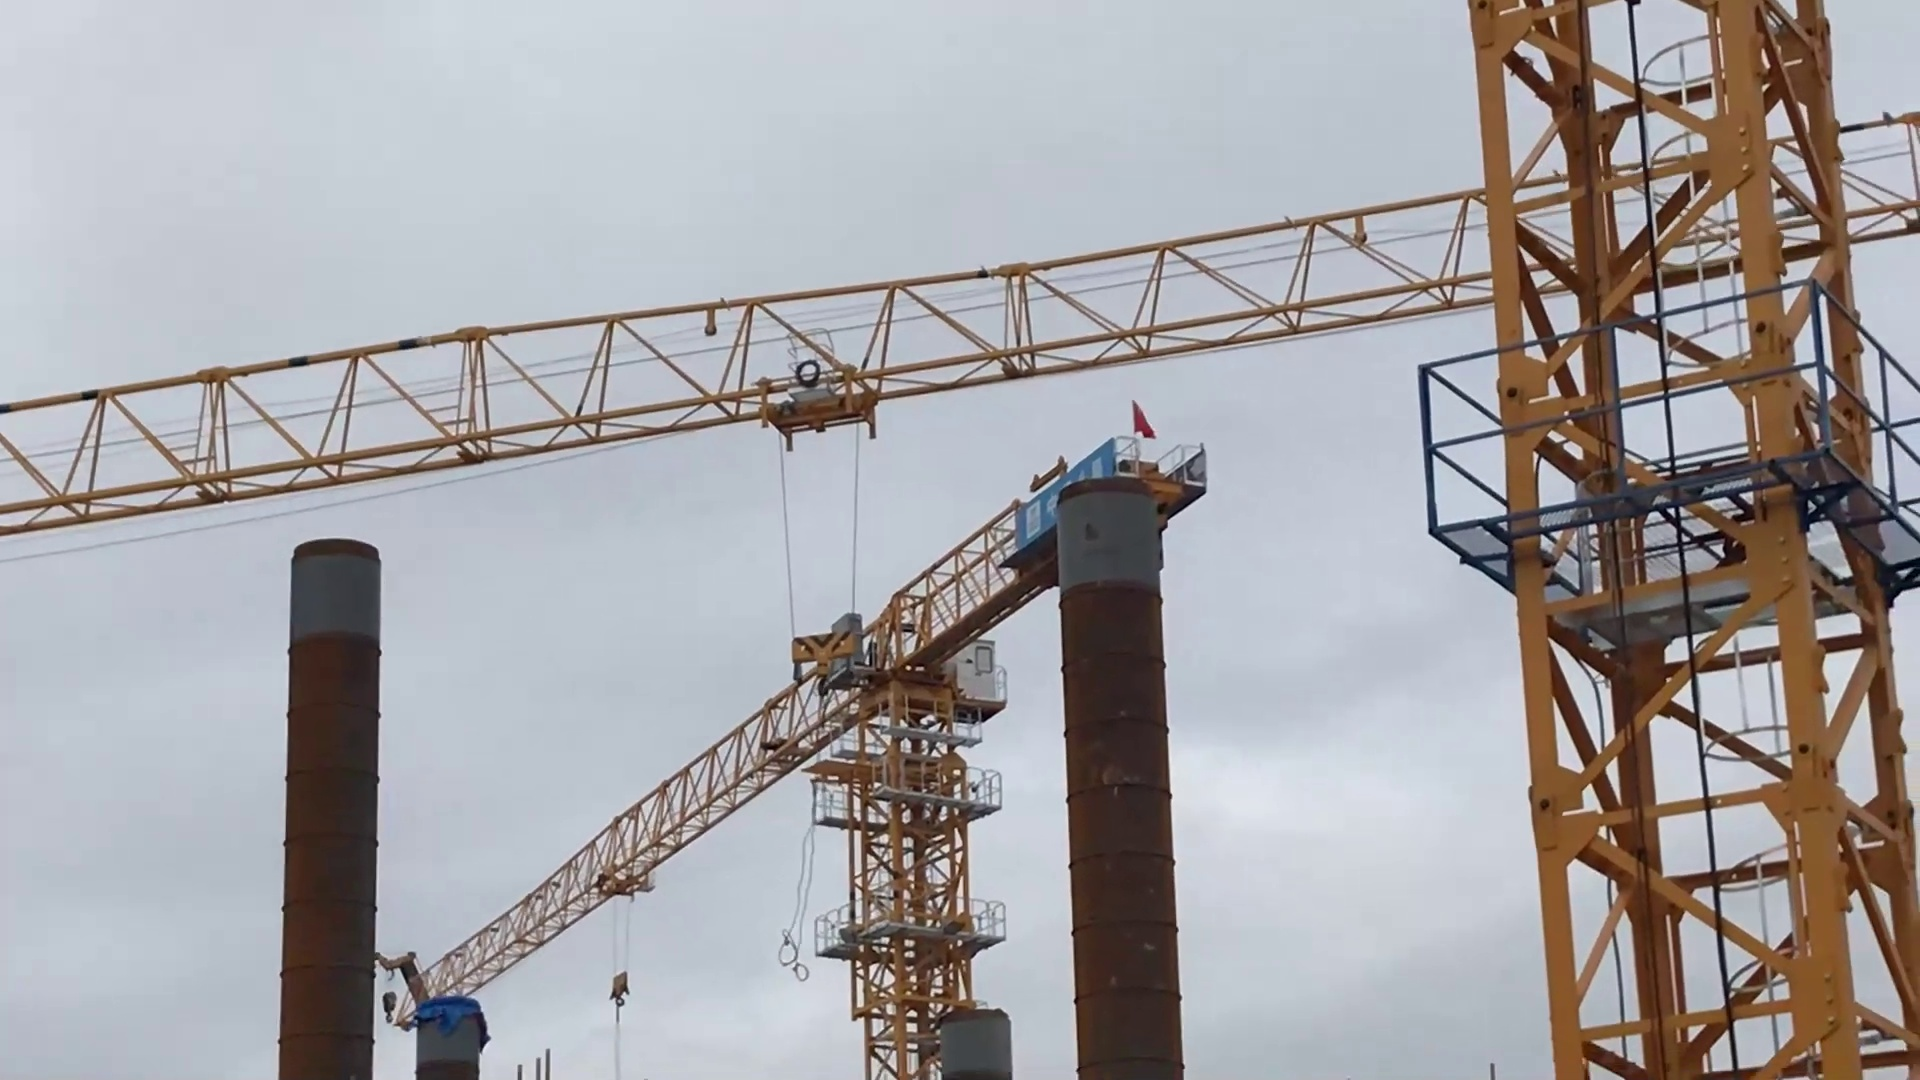hook: (778, 615, 877, 699)
